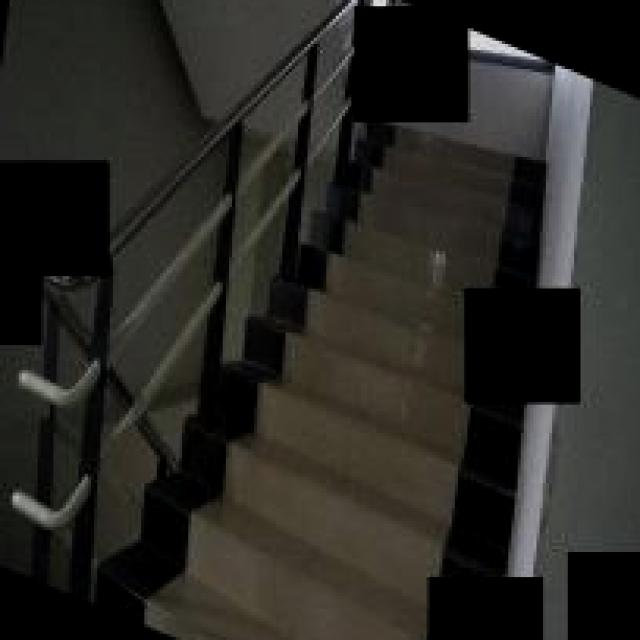upstair: (152, 340, 428, 640)
